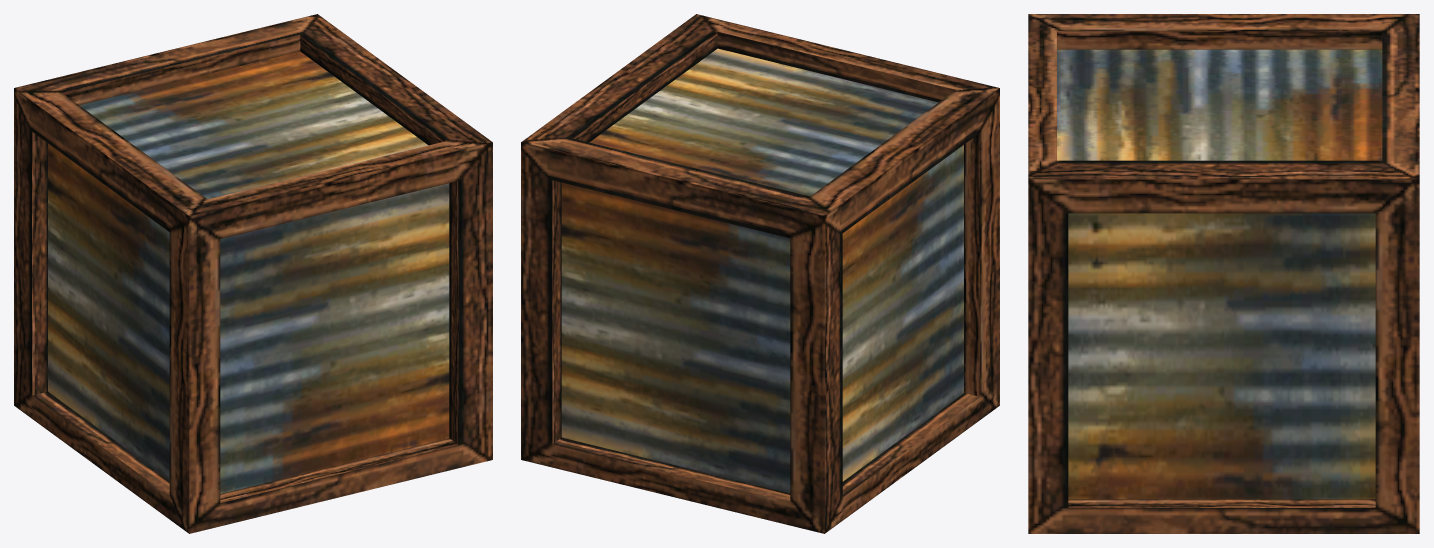
File: LVL_RIV_INST_CRATEA.fbx
3 renders of one model, left to right at view 1: azimuth 30°, elevation 25°; view 2: azimuth 150°, elevation 25°; view 3: azimuth 270°, elevation 25°, orthographic. The views are drawn at different scales.
Parts seen in each view (by area): view 1: LVL_RIV_INST_CRATEA; view 2: LVL_RIV_INST_CRATEA; view 3: LVL_RIV_INST_CRATEA.
Part boxes in pixels (x1,y1,x2,y2): LVL_RIV_INST_CRATEA: (14, 14, 492, 533); LVL_RIV_INST_CRATEA: (521, 14, 999, 533); LVL_RIV_INST_CRATEA: (1028, 14, 1419, 533).
Size of the model in its own units: 12711 by 12711 by 12711.
3 materials, 3 textured.
